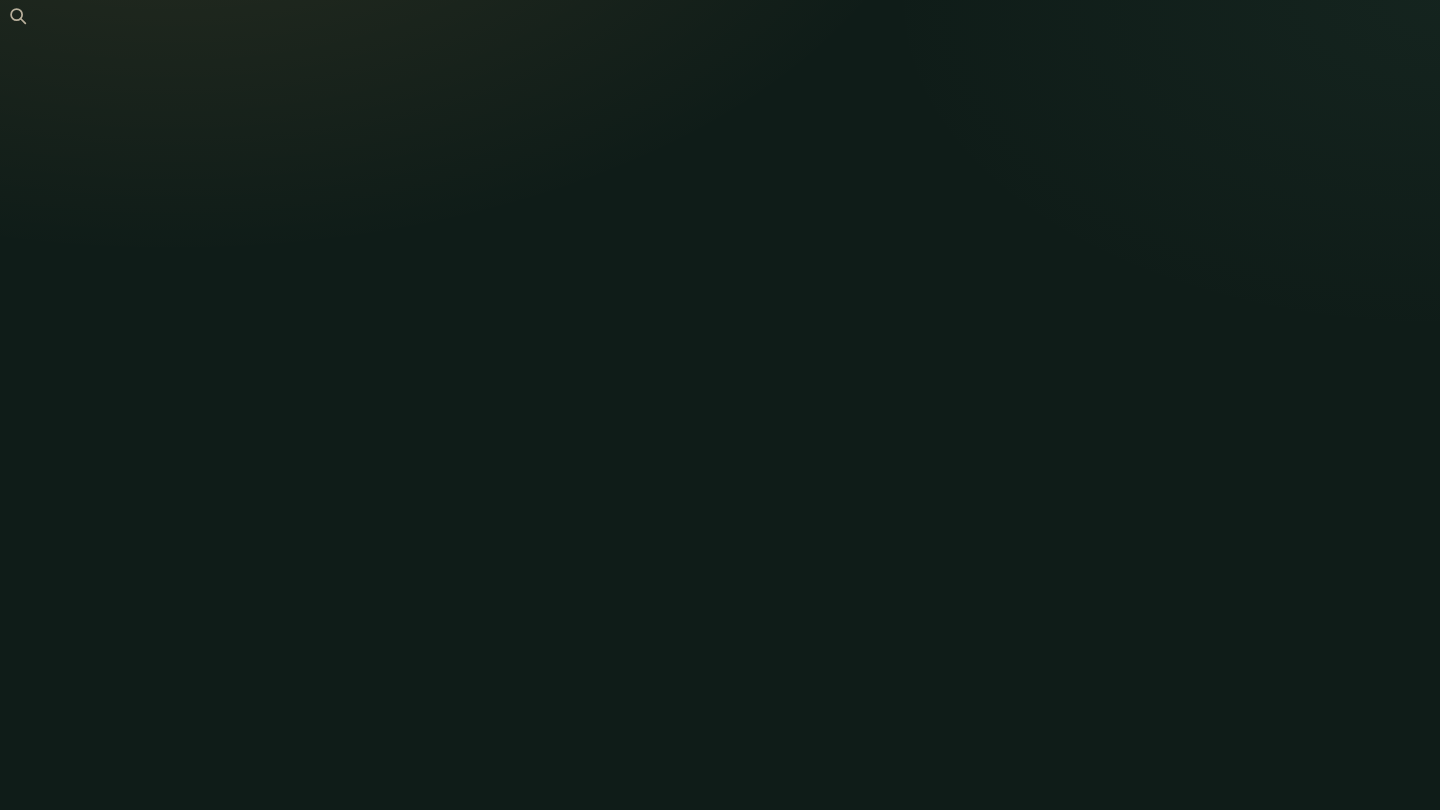
Test: JumpBox › aTapOutsideClosesItAndPhonesGetACloseButton
Click the button named "Jump to a book": (18, 19) [0,0,36,38]
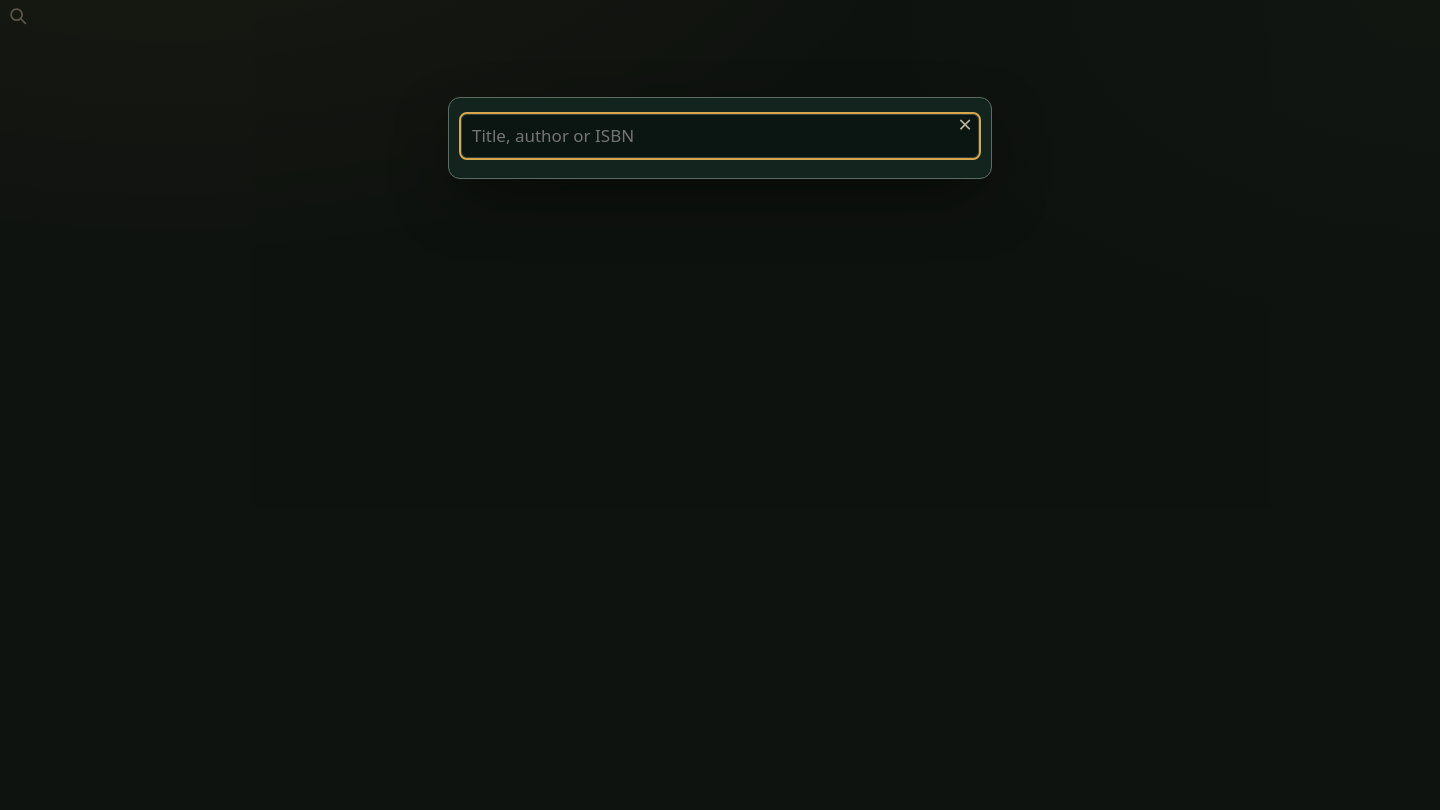
Click the element with class "jump-backdrop": (720, 405) [0,0,1439,809]
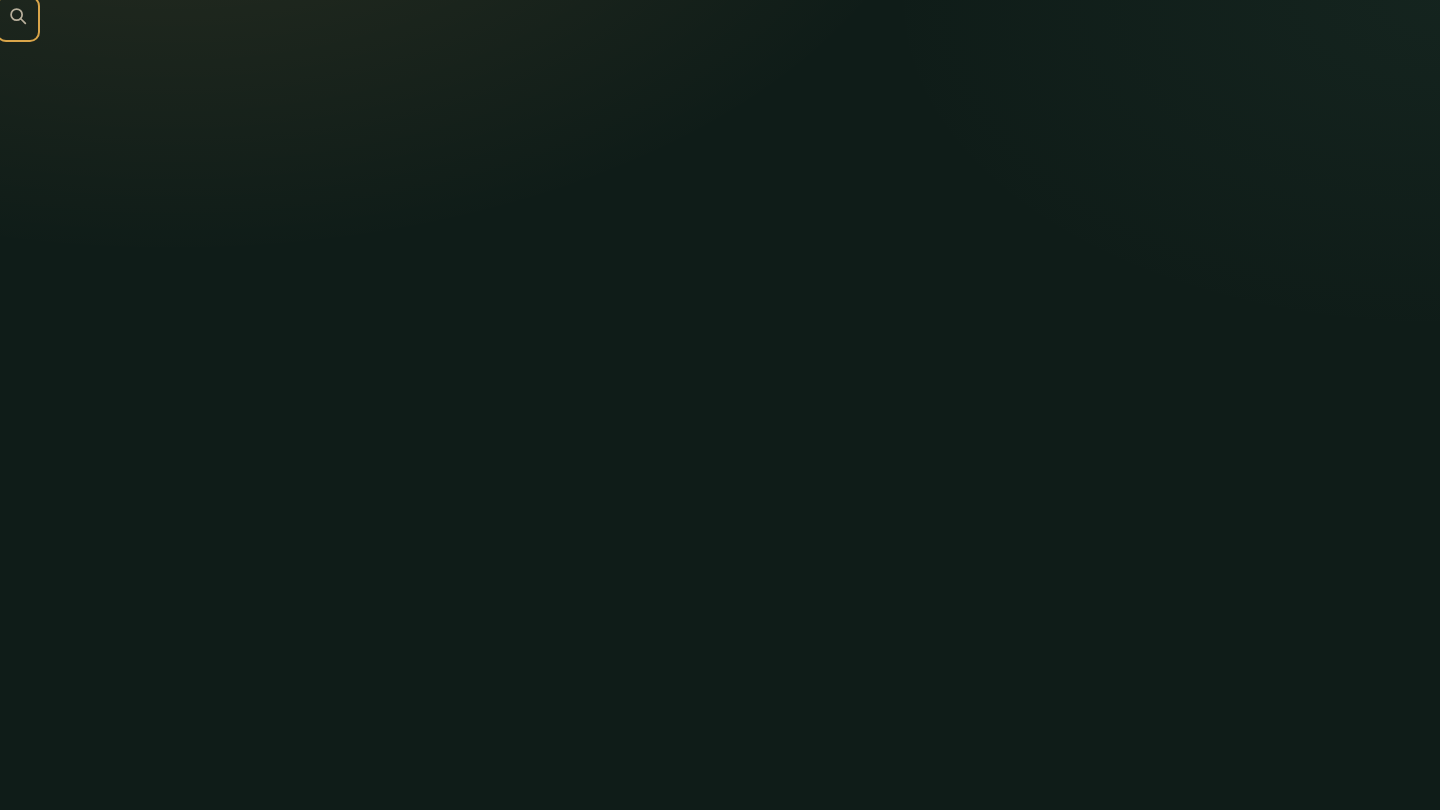
Expected: the dialog is gone
Click the button named "Jump to a book": (18, 19) [0,0,36,38]
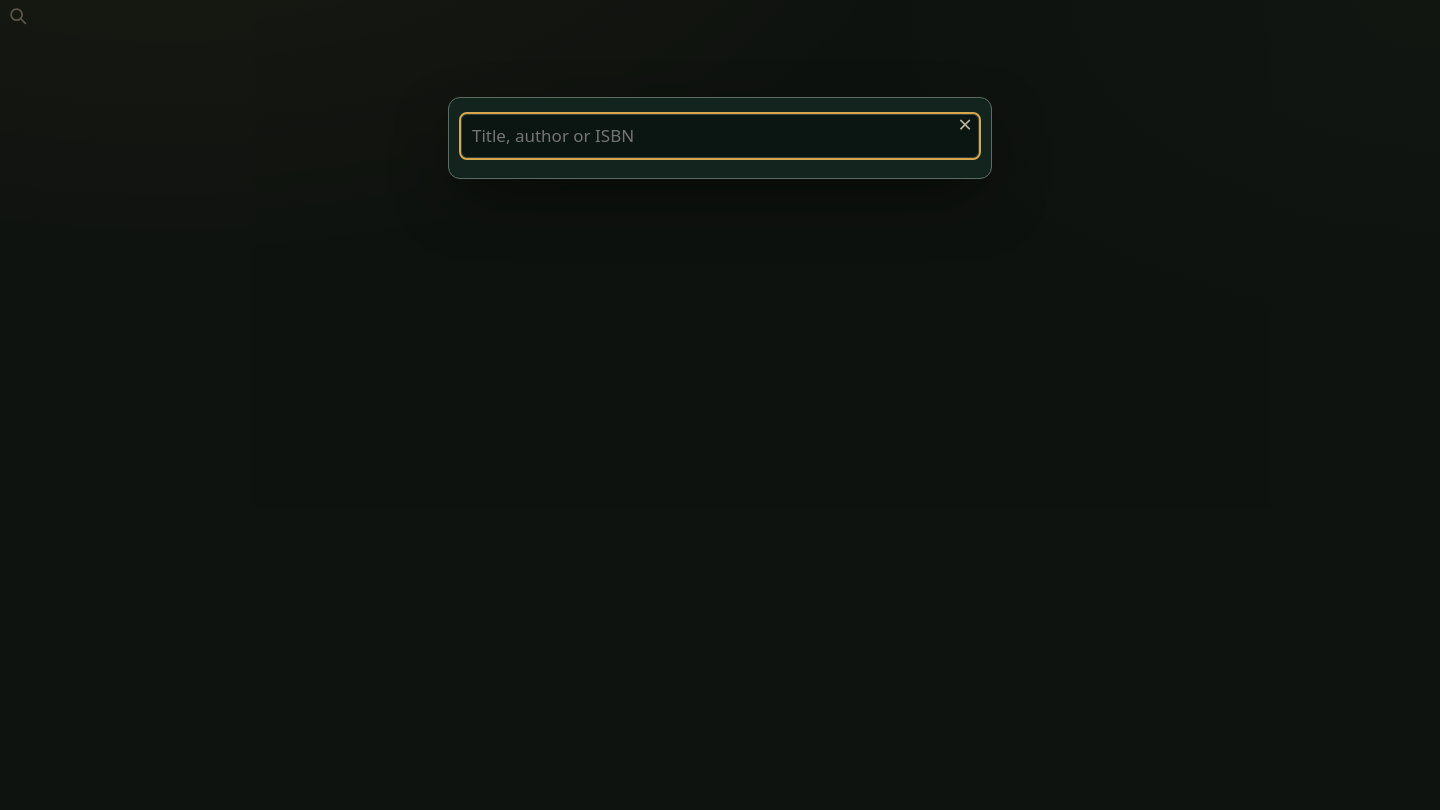
In the dropdown named "Jump to a book": (720, 136) [461,114,979,158], type "Emma"
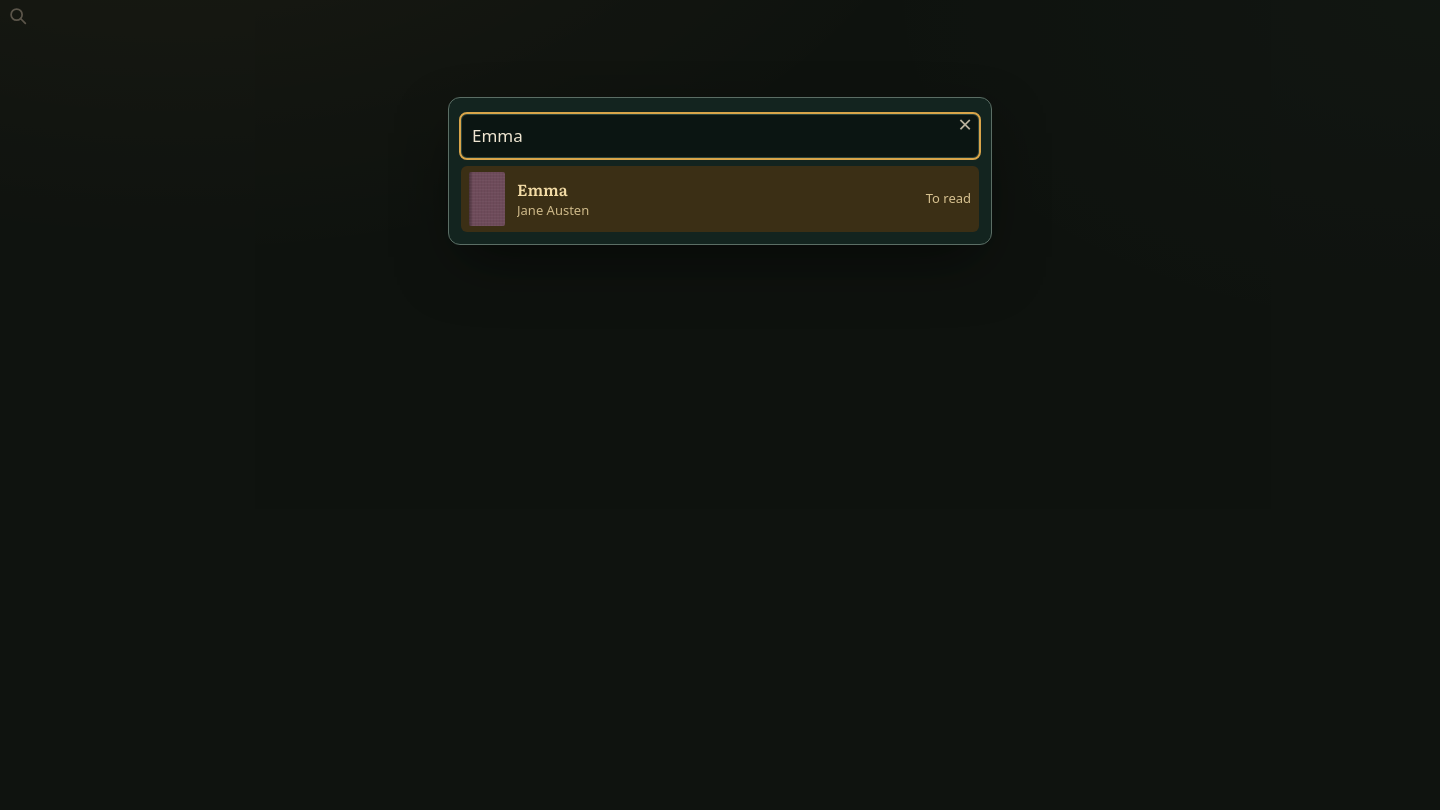
Click the button named "Close": (965, 124) [943,102,987,146]
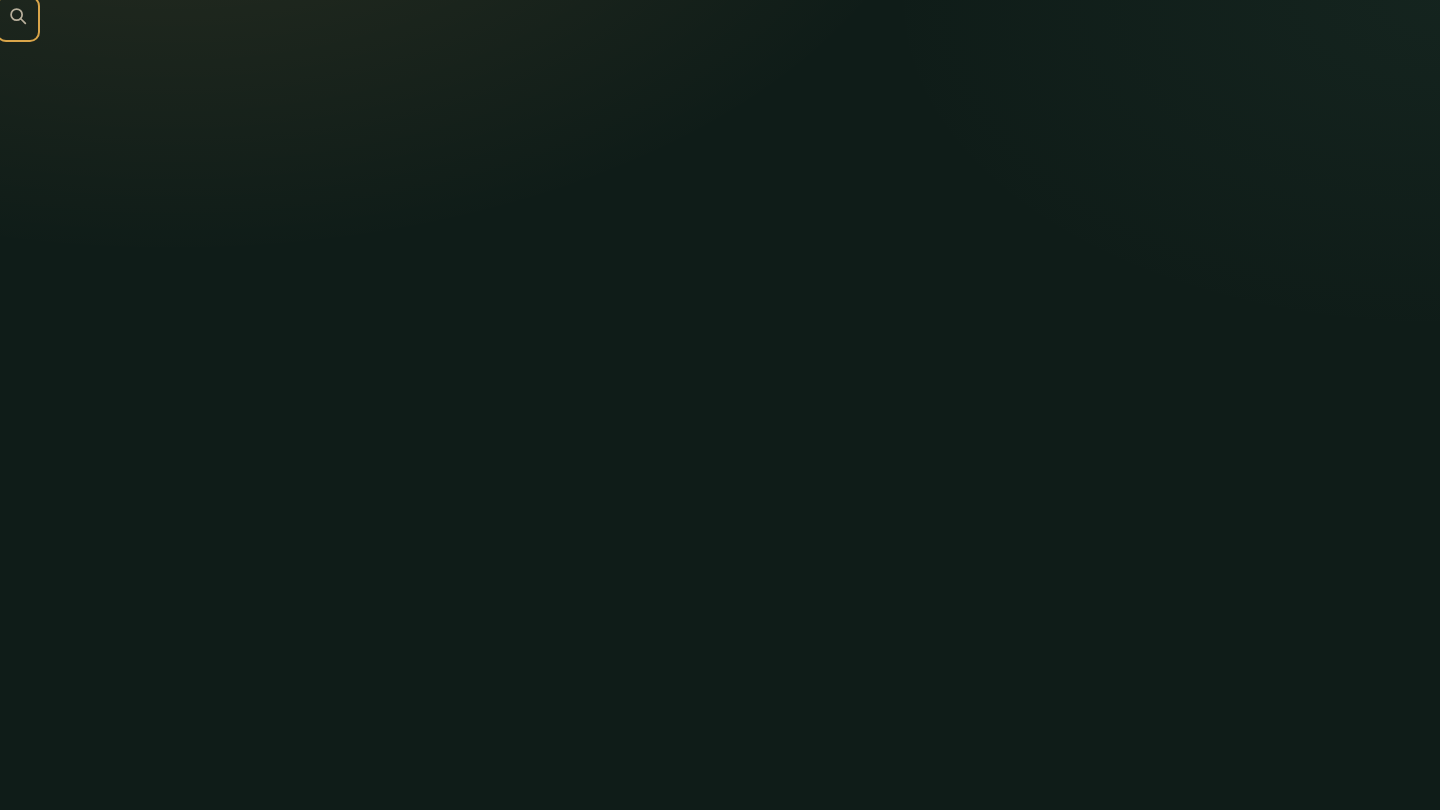
Expected: the dialog is gone
# The label it had stays for the next time.
Click the button named "Jump to a book": (18, 19) [0,0,36,38]
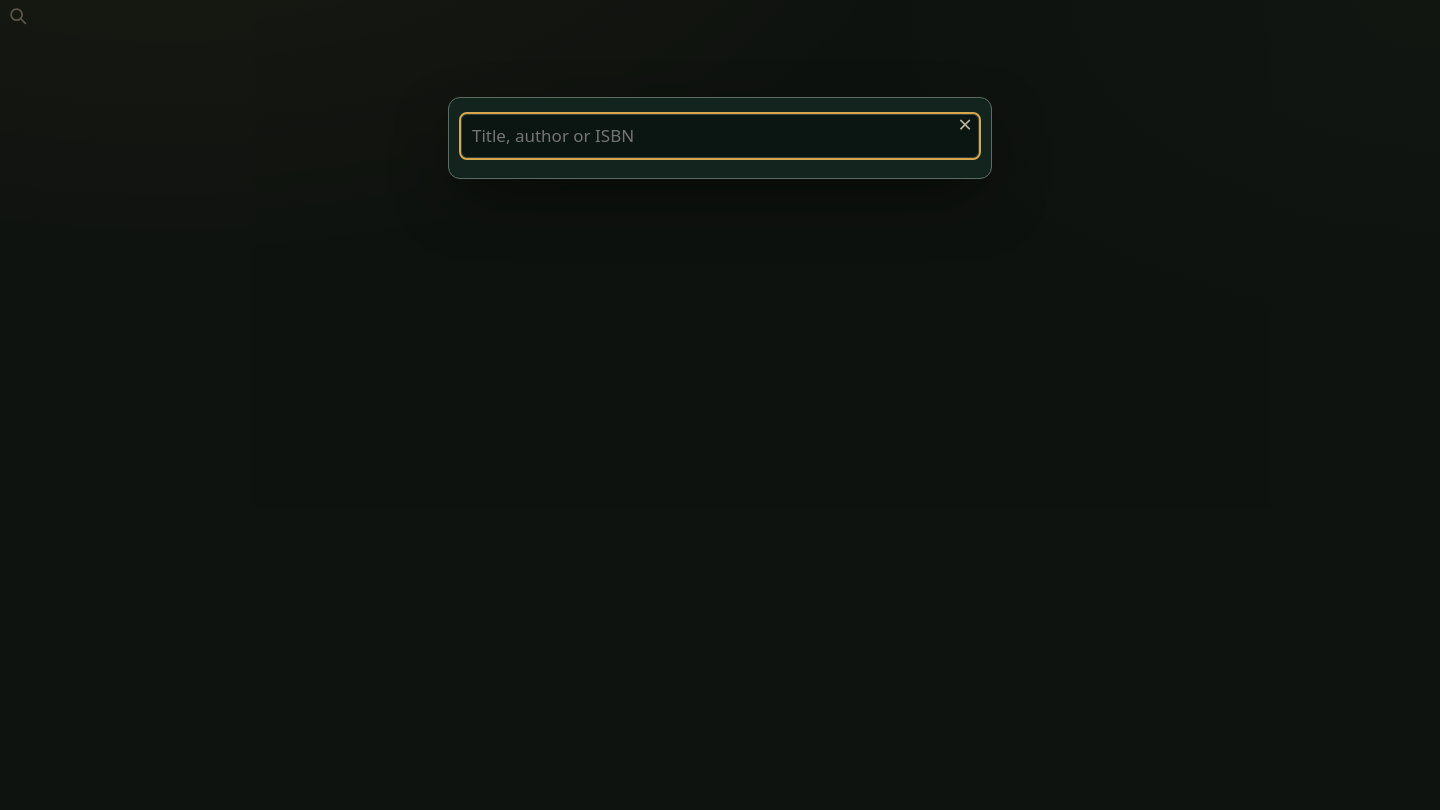
Expected: the dropdown named "Jump to a book" is empty, [461,114,979,158]
